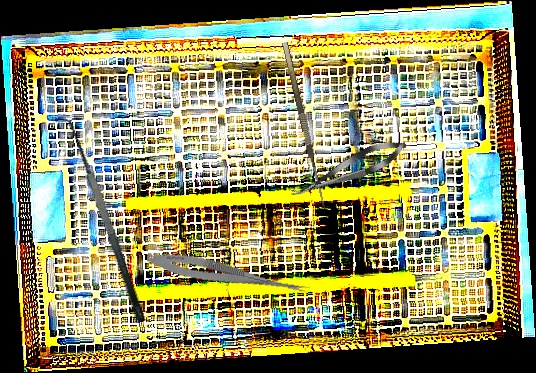Hook Surgical: (281, 39, 336, 211)
Micro Scissor: (286, 132, 411, 207), (145, 247, 312, 300)
Spatula Surgical: (52, 112, 148, 330)
